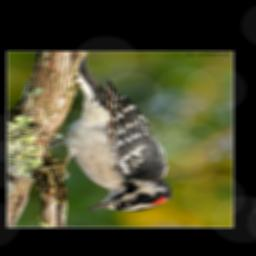Woodpecker: (44, 56, 177, 211)
